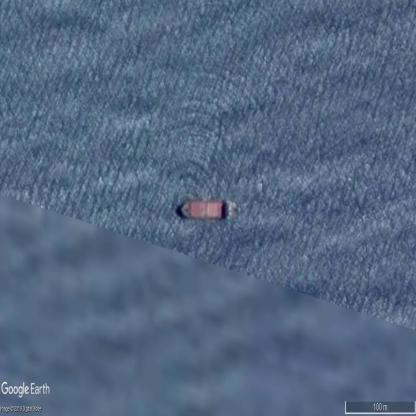ship: (181, 201, 226, 219)
